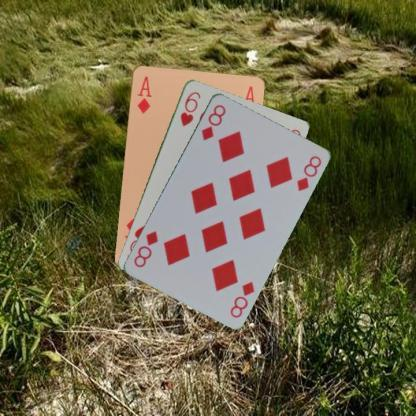6h: (177, 89, 202, 128)
8d: (198, 101, 227, 142), (228, 278, 255, 318)
Ad: (134, 73, 153, 115)
